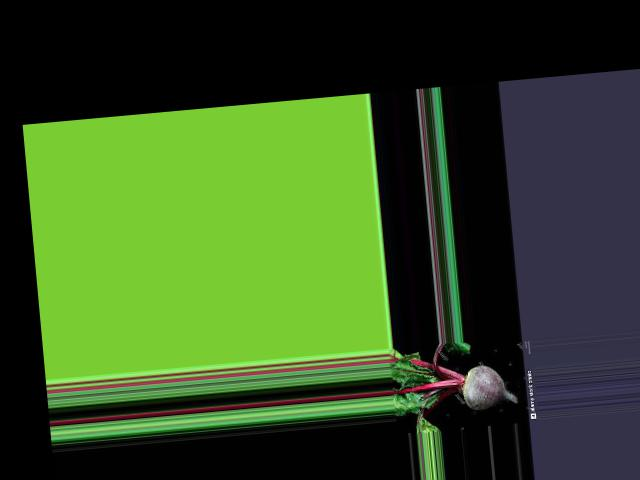beet: (388, 336, 519, 434)
